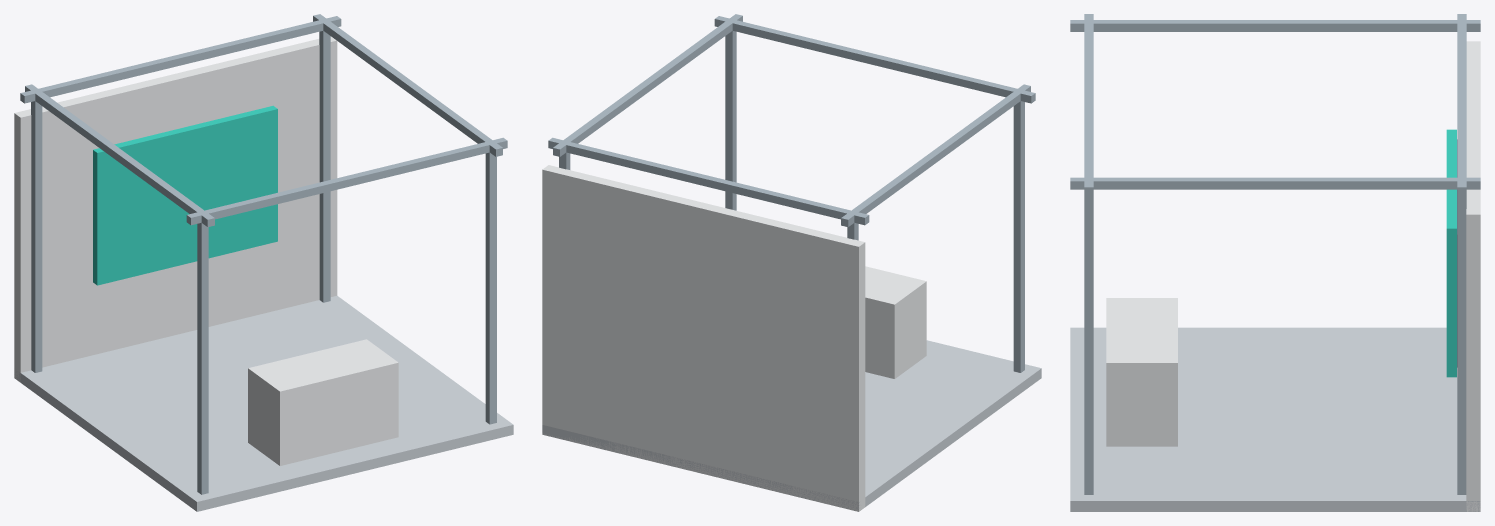
The picture shows the model from 3 angles, left to right: view 1: azimuth 30°, elevation 25°; view 2: azimuth 150°, elevation 25°; view 3: azimuth 270°, elevation 25°; orthographic projection. The views are drawn at different scales.
Visible parts, largest first — view 1: Exhibition Booth Concept; view 2: Exhibition Booth Concept; view 3: Exhibition Booth Concept.
Part boxes in pixels (left/top/right/bottom): Exhibition Booth Concept: left=14, top=14, right=513, bottom=511; Exhibition Booth Concept: left=542, top=14, right=1041, bottom=511; Exhibition Booth Concept: left=1070, top=14, right=1480, bottom=511.
Bounding box in the file's own units: 4 × 3.49 × 4.
